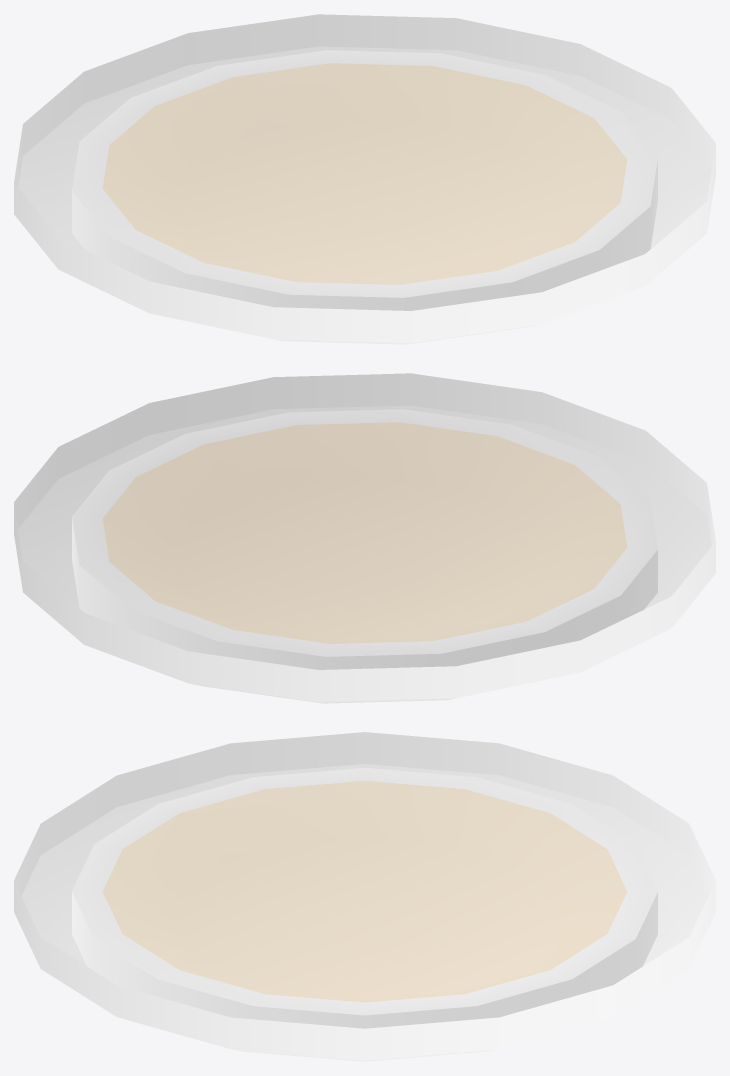
The model's file is FP307:LightFixture1_a3350bad.obj.
The picture shows the model from 3 angles, top to bottom: view 1: azimuth 30°, elevation 25°; view 2: azimuth 150°, elevation 25°; view 3: azimuth 270°, elevation 25°; orthographic projection.
Parts seen in each view (by area): view 1: FP307:LightFixture1__a3350bad; view 2: FP307:LightFixture1__a3350bad; view 3: FP307:LightFixture1__a3350bad.
Boxes of the visible parts, <box> form: FP307:LightFixture1__a3350bad: <box>14,14,715,344</box>; FP307:LightFixture1__a3350bad: <box>14,373,715,703</box>; FP307:LightFixture1__a3350bad: <box>14,732,715,1061</box>.
Bounding box in the file's own units: 0.2 × 0.0169 × 0.2.
